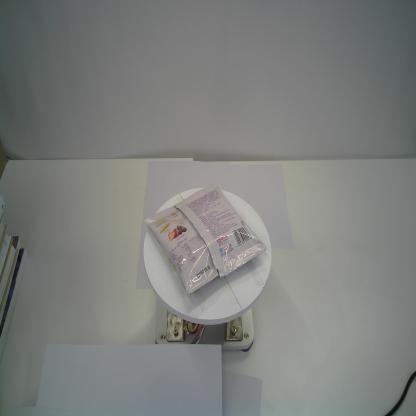Instant Drink: (143, 182, 267, 297)
